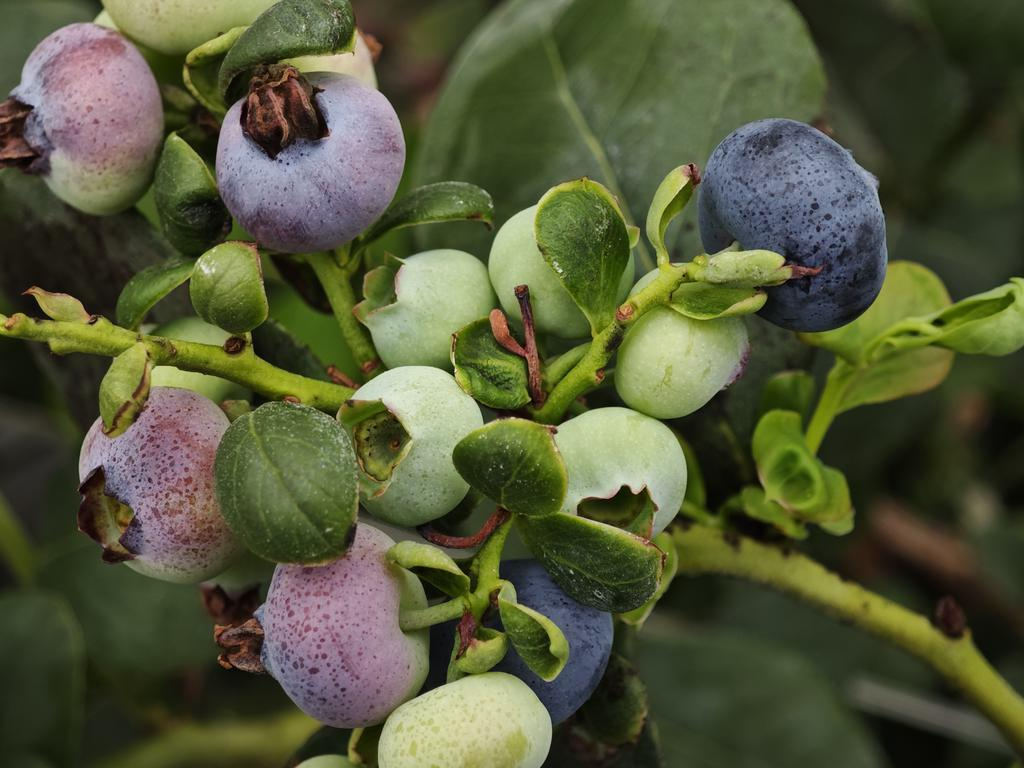RipeBlueBerry: (699, 115, 893, 338)
Semi-RipeBlueBerry: (242, 519, 433, 733), (212, 65, 408, 255), (72, 380, 245, 588), (2, 17, 170, 218)
